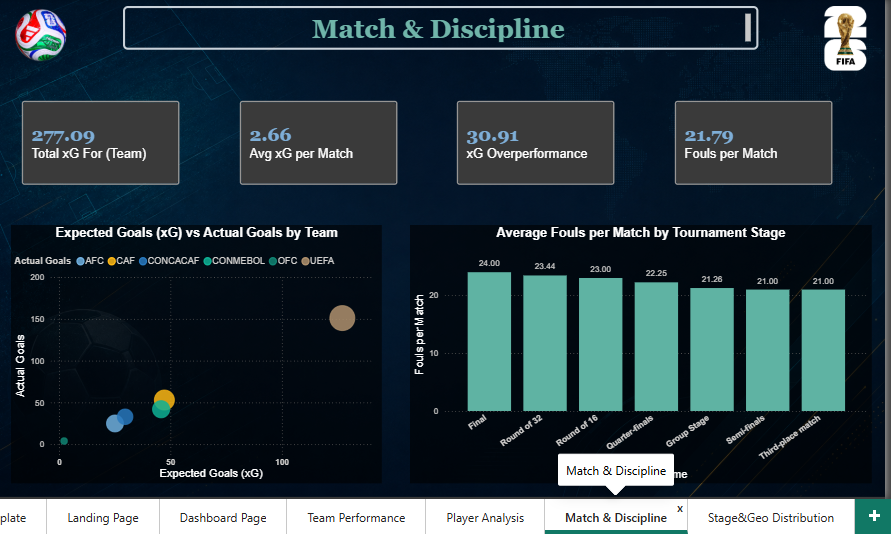

What the dashboard file says about the page in this screenshot:
{"tool":"powerbi","page":{"name":"Match & Discipline","canvas":[1280,720],"ordinal":5},"visuals":[{"type":"image","box":[1161.4,10,118.3,93.3],"z":0},{"type":"image","title":"Navigation","box":[0,10.1,125.3,80.6],"z":1000},{"type":"textbox","box":[181.4,10.1,915,63.3],"z":2000},{"type":"cardVisual","fields":{"Data":["_Measures.Total xG For (Team)"]},"box":[18.7,128.9,261.6,155.1],"z":3000},{"type":"cardVisual","fields":{"Data":["_Measures.Avg xG per Match"]},"box":[332,128.9,261.6,155.1],"z":4000},{"type":"cardVisual","fields":{"Data":["_Measures.xG Overperformance"]},"box":[645.3,128.9,261.6,155.1],"z":5000},{"type":"cardVisual","fields":{"Data":["_Measures.Fouls per Match"]},"box":[958.6,128.9,261.6,155.1],"z":6000},{"type":"scatterChart","title":"Expected Goals (xG) vs Actual Goals by Team","fields":{"Y":["_Measures.Goals For"],"X":["_Measures.Total xG For (Team)"],"Series":["teams.confederation"],"Size":["_Measures.Matches Played"]},"box":[20.6,325.1,534.4,371.9],"z":7000},{"type":"clusteredColumnChart","title":"Average Fouls per Match by Tournament Stage","fields":{"Category":["tournament_stages.stage_name"],"Y":["_Measures.Fouls per Match"]},"box":[594.2,325.1,665.2,371.9],"z":8000}]}

Visuals, with their boxes on the page's 1280x720 design canvas (x1, y1, x2, y2). These are canvas units, not pixel positions in the 891x534 screenshot, which may show the page scaled, cropped or inside an application window:
image: {"left": 1161, "top": 10, "right": 1280, "bottom": 103}
"Navigation" image: {"left": 0, "top": 10, "right": 125, "bottom": 91}
textbox: {"left": 181, "top": 10, "right": 1096, "bottom": 73}
cardVisual - _Measures.Total xG For (Team): {"left": 19, "top": 129, "right": 280, "bottom": 284}
cardVisual - _Measures.Avg xG per Match: {"left": 332, "top": 129, "right": 594, "bottom": 284}
cardVisual - _Measures.xG Overperformance: {"left": 645, "top": 129, "right": 907, "bottom": 284}
cardVisual - _Measures.Fouls per Match: {"left": 959, "top": 129, "right": 1220, "bottom": 284}
"Expected Goals (xG) vs Actual Goals by Team" scatterChart: {"left": 21, "top": 325, "right": 555, "bottom": 697}
"Average Fouls per Match by Tournament Stage" clusteredColumnChart: {"left": 594, "top": 325, "right": 1259, "bottom": 697}
